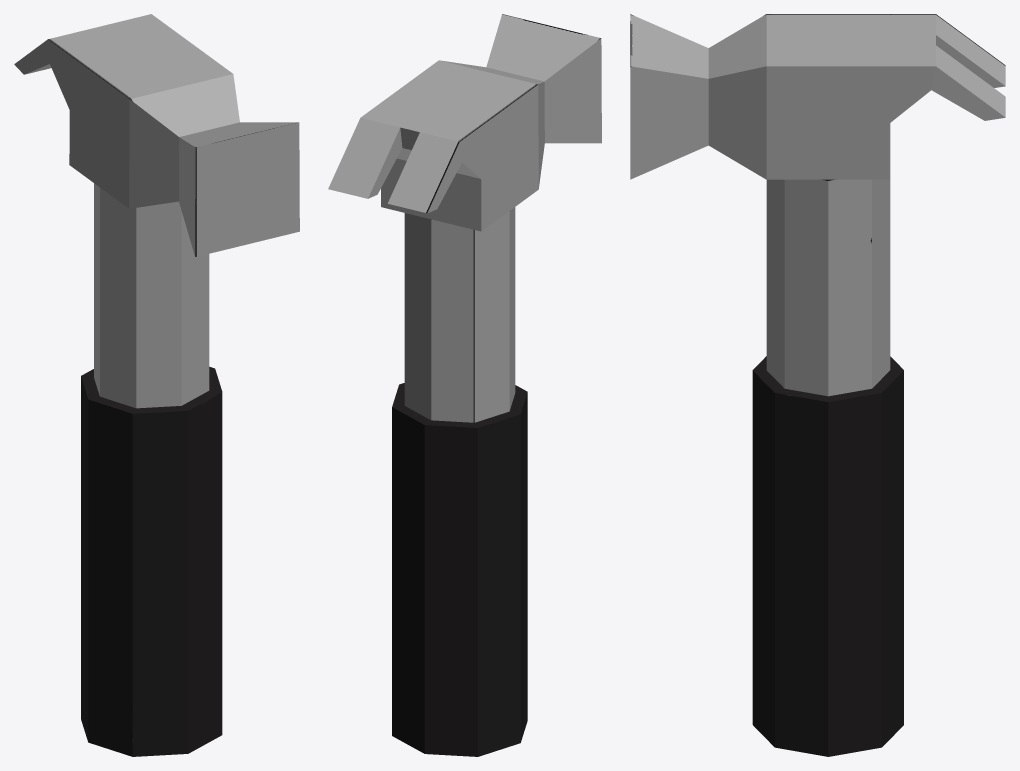
File: Hammer.fbx
The picture shows the model from 3 angles, left to right: view 1: azimuth 30°, elevation 25°; view 2: azimuth 150°, elevation 25°; view 3: azimuth 270°, elevation 25°; orthographic projection. The views are drawn at different scales.
Visible parts, largest first — view 1: Hammer; view 2: Hammer; view 3: Hammer.
Part boxes in pixels (left/top/right/bottom): Hammer: left=14, top=14, right=299, bottom=756; Hammer: left=328, top=14, right=601, bottom=756; Hammer: left=630, top=14, right=1005, bottom=756.
Size of the model in its own units: 0.7596 by 3.79 by 1.88.
